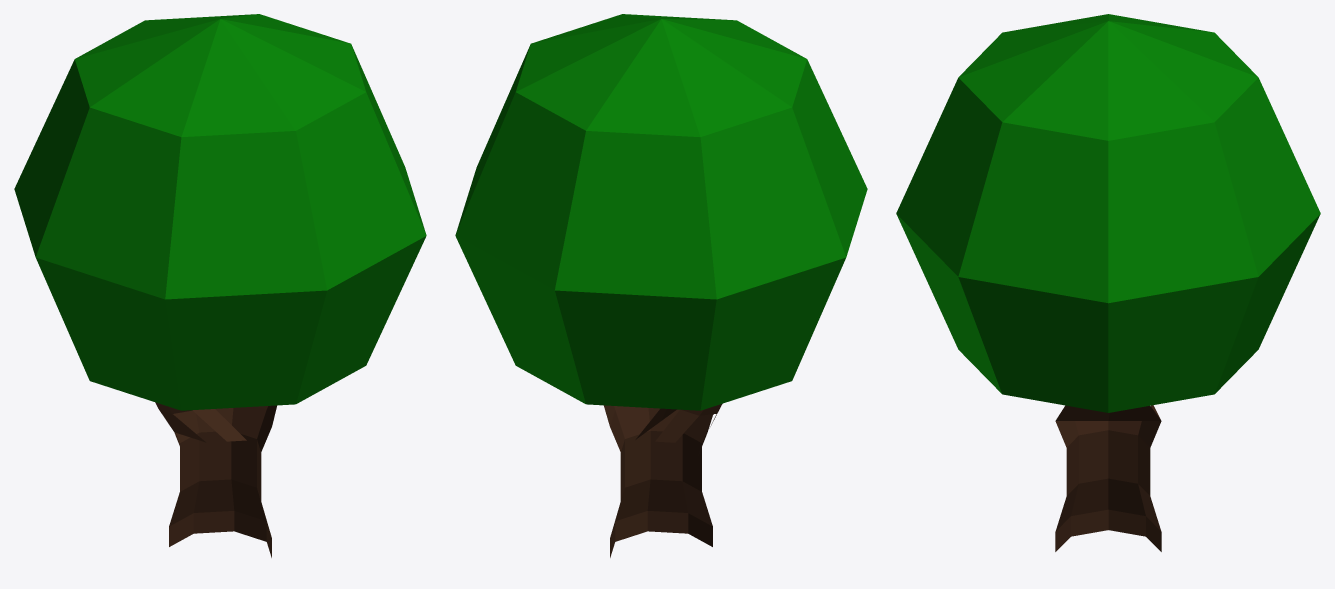
File: bush_01.glb
The picture shows the model from 3 angles, left to right: view 1: azimuth 30°, elevation 25°; view 2: azimuth 150°, elevation 25°; view 3: azimuth 270°, elevation 25°; orthographic projection.
Parts seen in each view (by area): view 1: Bush01; view 2: Bush01; view 3: Bush01.
Boxes of the visible parts, <box> form: Bush01: <box>14,14,426,557</box>; Bush01: <box>455,14,867,557</box>; Bush01: <box>896,14,1320,551</box>.
Bounding box in the file's own units: 2 × 2.76 × 2.
Materials: 1 (1 with a texture image).
